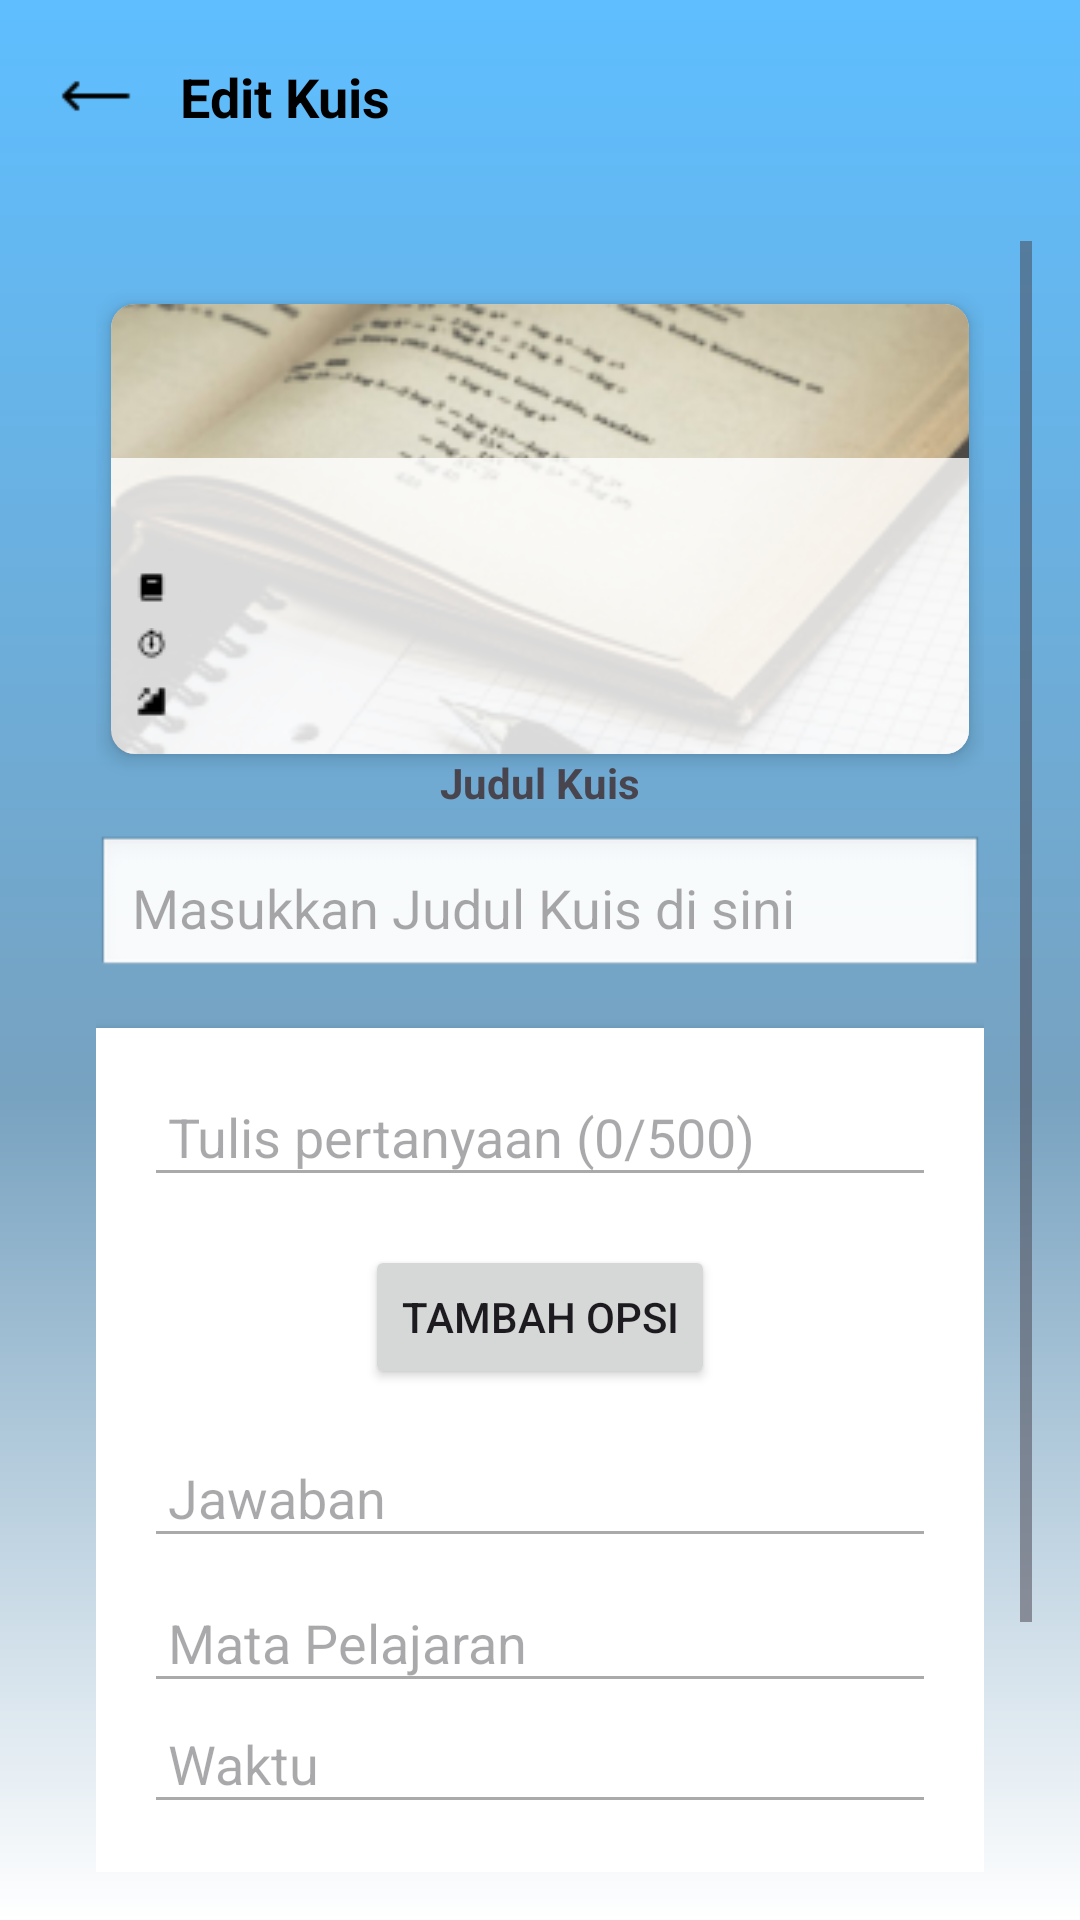

Locate icon controls on the screen. Image size 1080px×1920px, boxes as (x1, y1, x2, y2).
Back Arrow: (61, 81, 131, 111)
